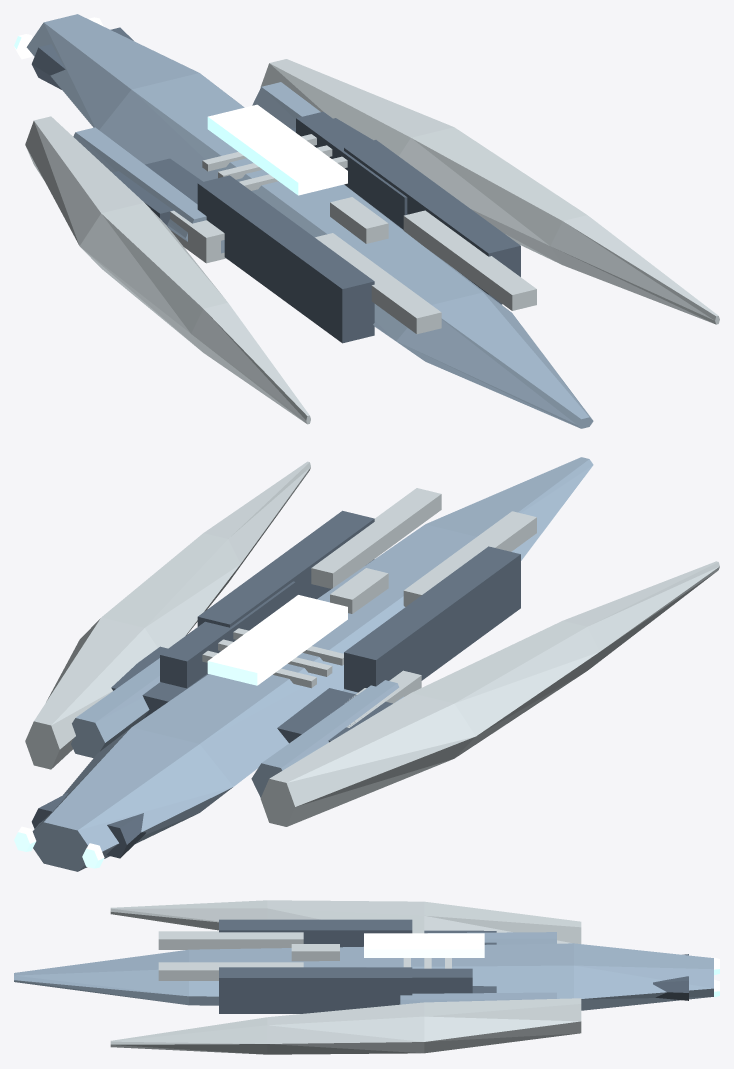
The picture shows the model from 3 angles, top to bottom: view 1: azimuth 30°, elevation 25°; view 2: azimuth 150°, elevation 25°; view 3: azimuth 270°, elevation 25°; orthographic projection. The views are drawn at different scales.
Bounding box in the file's own units: 5.54 × 1.14 × 12.29.
